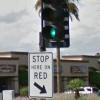Traffic light: (28, 3, 91, 56)
